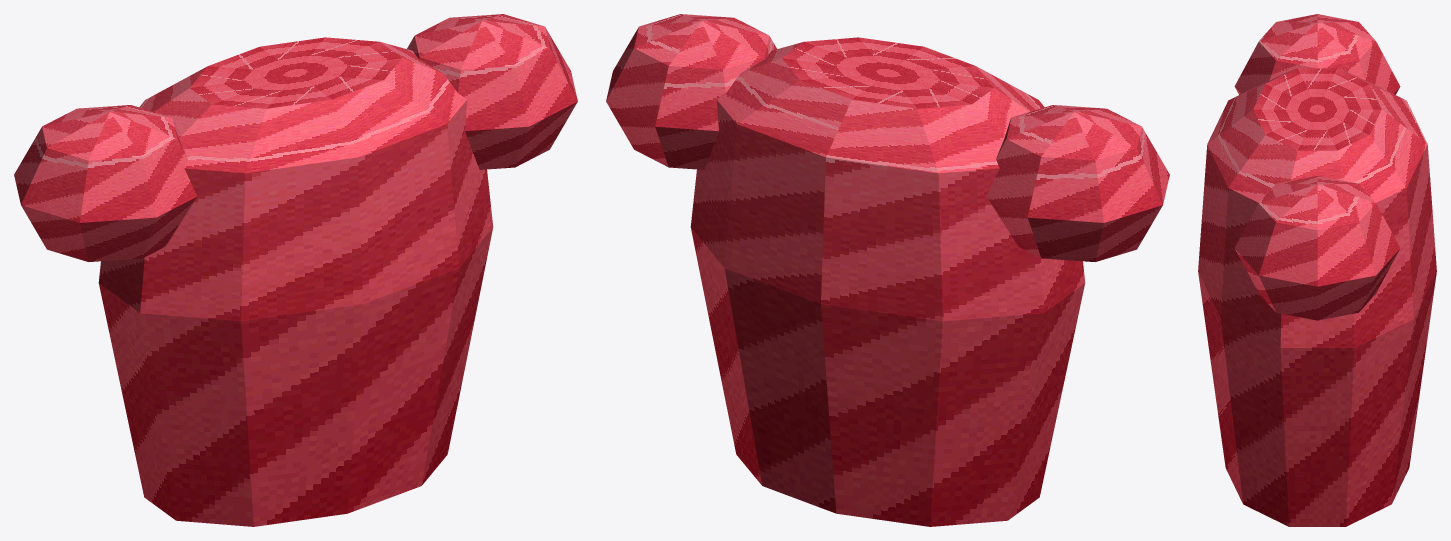
File: peitoral_de_rubi.glb
3 renders of one model, left to right at view 1: azimuth 30°, elevation 25°; view 2: azimuth 150°, elevation 25°; view 3: azimuth 270°, elevation 25°, orthographic. The views are drawn at different scales.
Parts seen in each view (by area): view 1: peitoral_de_rubi; view 2: peitoral_de_rubi; view 3: peitoral_de_rubi.
Part boxes in pixels (x1,y1,x2,y2): peitoral_de_rubi: [14, 14, 577, 526]; peitoral_de_rubi: [606, 14, 1169, 526]; peitoral_de_rubi: [1198, 14, 1436, 526].
Size of the model in its own units: 0.886 by 0.6305 by 0.3744.
Materials: 1 (1 with a texture image).
